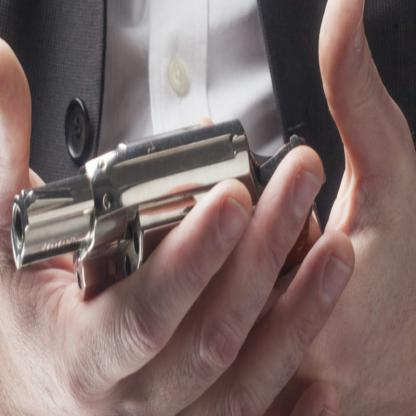gun: (0, 116, 329, 320)
